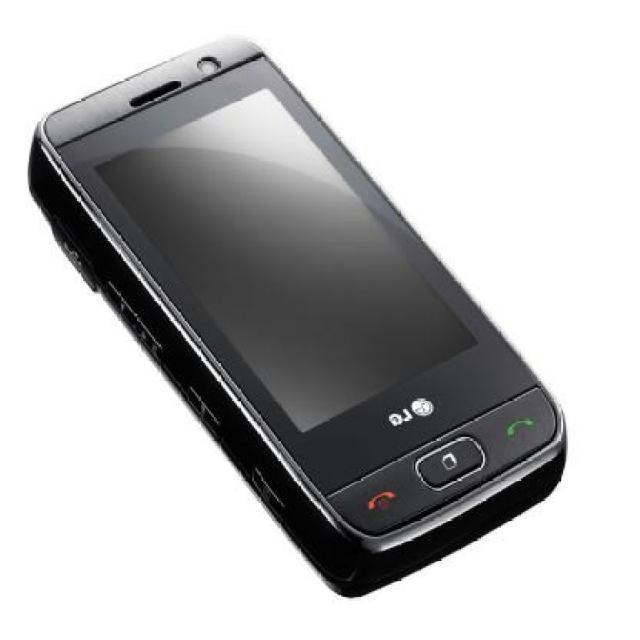phone: (34, 13, 548, 579)
